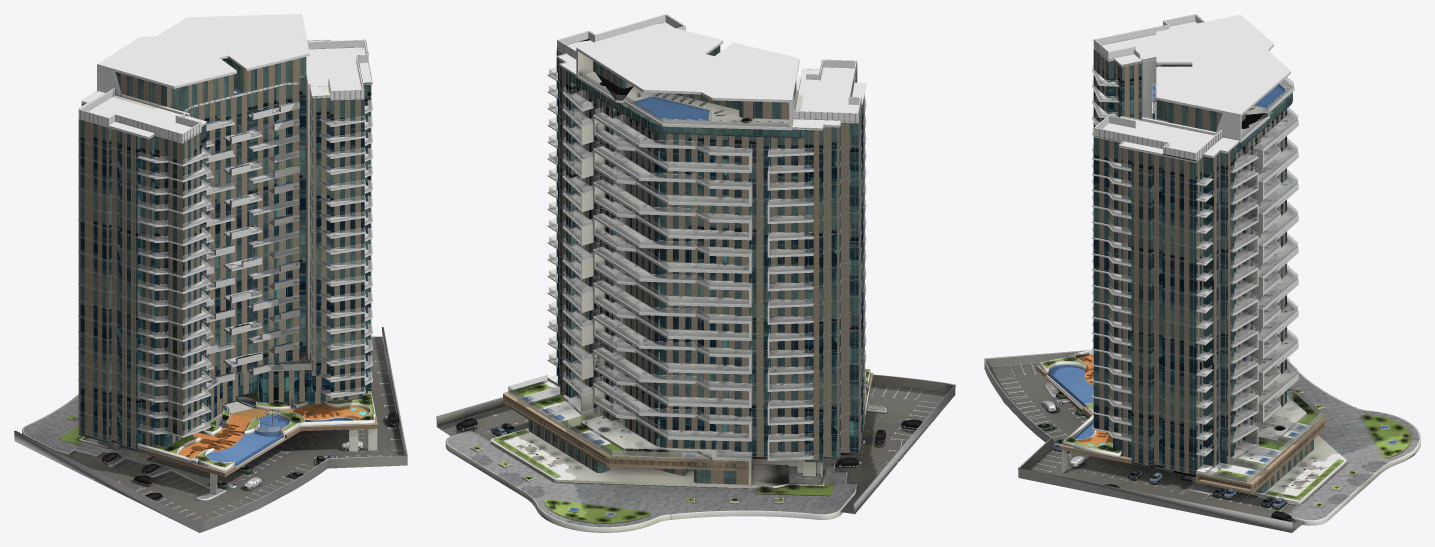
Rendered from build.glb.
The picture shows the model from 3 angles, left to right: view 1: azimuth 30°, elevation 25°; view 2: azimuth 150°, elevation 25°; view 3: azimuth 270°, elevation 25°; orthographic projection. The views are drawn at different scales.
Parts seen in each view (by area): view 1: Auria_Gardens_build; view 2: Auria_Gardens_build; view 3: Auria_Gardens_build.
Part boxes in pixels (left/top/right/bottom): Auria_Gardens_build: left=14, top=14, right=407, bottom=532; Auria_Gardens_build: left=436, top=14, right=955, bottom=532; Auria_Gardens_build: left=984, top=14, right=1420, bottom=532.
Size of the model in its own units: 101 by 94.67 by 99.72.
Materials: 17 (11 with a texture image).
